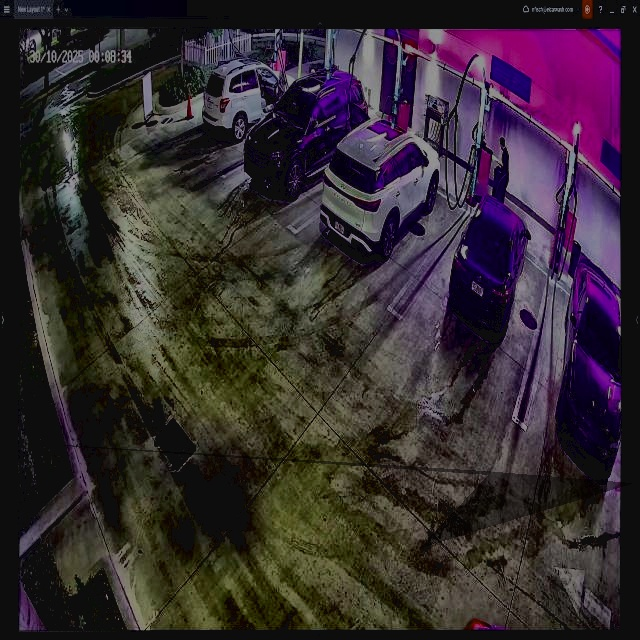Car: (320, 121, 440, 262), (246, 68, 368, 196), (450, 196, 531, 347)
